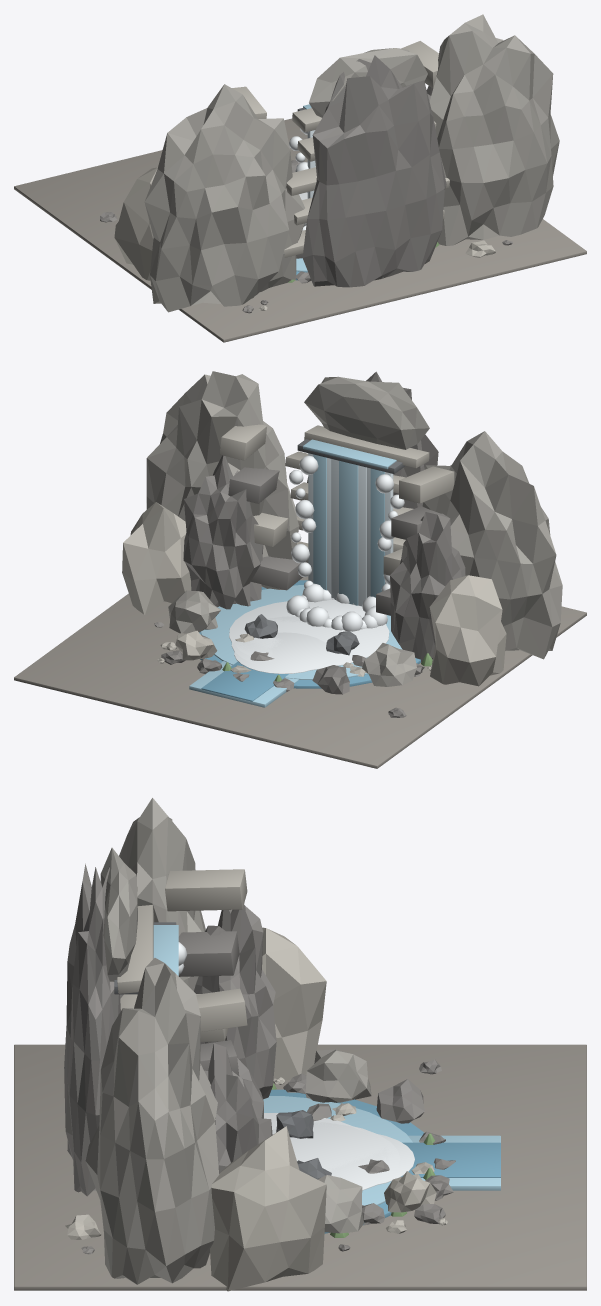
Rendered from th26_wasserfall.glb.
3 renders of one model, top to bottom at view 1: azimuth 30°, elevation 25°; view 2: azimuth 150°, elevation 25°; view 3: azimuth 270°, elevation 25°, orthographic. The views are drawn at different scales.
Visible parts, largest first — view 1: Felskoerper, Felskoerper.006, Felskoerper.003, Cube, Felskoerper.007, Felskoerper.002, Cube.008, Cube.011, Cube.013; view 2: Cube, Felskoerper, Felskoerper.003, Felskoerper.004, Felskoerper.002, Felskoerper.001, Felskoerper.007, Felskoerper.005, Cylinder.002, Cube.019, Cylinder.001, Cylinder.004 (+26 smaller); view 3: Cube, Felskoerper.003, Felskoerper.005, Felskoerper.006, Felskoerper.001, Felskoerper.002, Felskoerper, Felskoerper.004, Felskoerper.007, Cylinder.003, Cube.004, Brocken.046 (+14 smaller).
Part boxes in pixels (bbox=[...]): Felskoerper: bbox=[144, 84, 304, 312]; Felskoerper.006: bbox=[302, 55, 446, 287]; Felskoerper.003: bbox=[429, 14, 559, 245]; Cube: bbox=[14, 118, 586, 342]; Felskoerper.007: bbox=[309, 48, 427, 117]; Felskoerper.002: bbox=[114, 167, 157, 280]; Cube.008: bbox=[401, 41, 438, 87]; Cube.011: bbox=[286, 167, 316, 195]; Cube.013: bbox=[292, 108, 321, 132]; Cube: bbox=[14, 576, 586, 768]; Felskoerper: bbox=[422, 431, 562, 659]; Felskoerper.003: bbox=[146, 371, 299, 589]; Felskoerper.004: bbox=[183, 455, 263, 609]; Felskoerper.002: bbox=[429, 575, 506, 686]; Felskoerper.001: bbox=[390, 512, 465, 662]; Felskoerper.007: bbox=[304, 376, 429, 449]; Felskoerper.005: bbox=[122, 502, 191, 614]; Cylinder.002: bbox=[229, 601, 389, 665]; Cube.019: bbox=[339, 460, 358, 605]; Cylinder.001: bbox=[200, 585, 402, 679]; Cylinder.004: bbox=[234, 632, 331, 673]; Cube: bbox=[14, 1044, 586, 1290]; Felskoerper.003: bbox=[85, 958, 219, 1284]; Felskoerper.005: bbox=[210, 1126, 326, 1291]; Felskoerper.006: bbox=[64, 863, 123, 1196]; Felskoerper.001: bbox=[194, 904, 276, 1099]; Felskoerper.002: bbox=[262, 927, 326, 1079]; Felskoerper: bbox=[119, 798, 205, 991]; Felskoerper.004: bbox=[204, 1043, 272, 1173]; Felskoerper.007: bbox=[100, 847, 137, 981]; Cylinder.003: bbox=[272, 1122, 400, 1190]; Cube.004: bbox=[165, 869, 247, 911]; Brocken.046: bbox=[305, 1049, 371, 1102].
Bounding box in the file's own units: 27.2 × 14 × 24.
